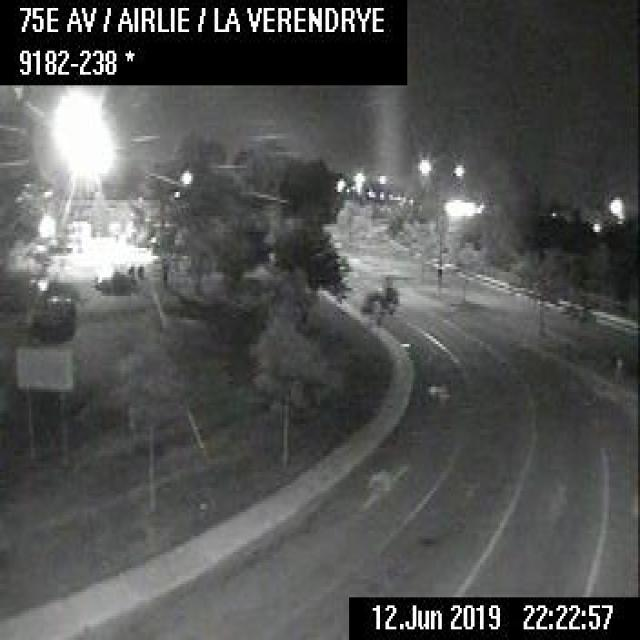vehicle: (93, 268, 136, 294)
